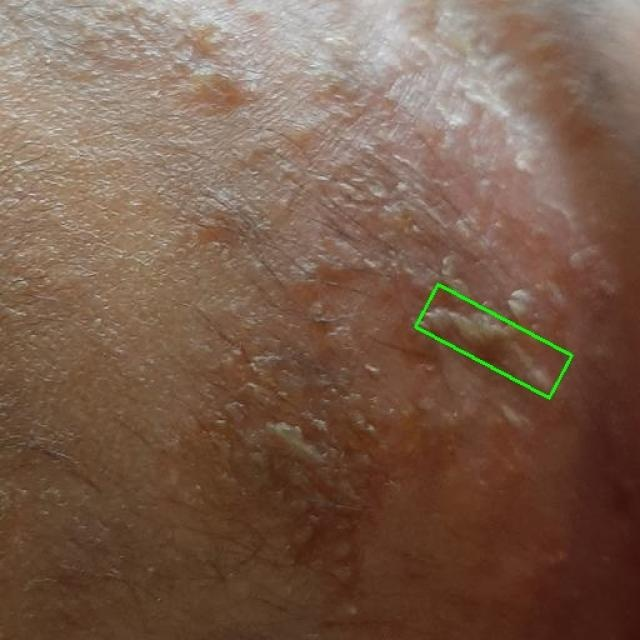Seborrheic Dermatitis: (416, 285, 571, 398)
